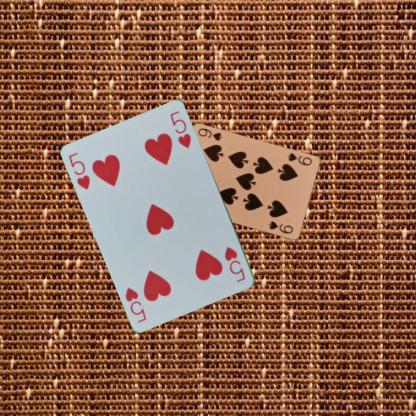5h: (66, 150, 92, 191), (222, 244, 247, 284)
9s: (285, 150, 313, 167)
